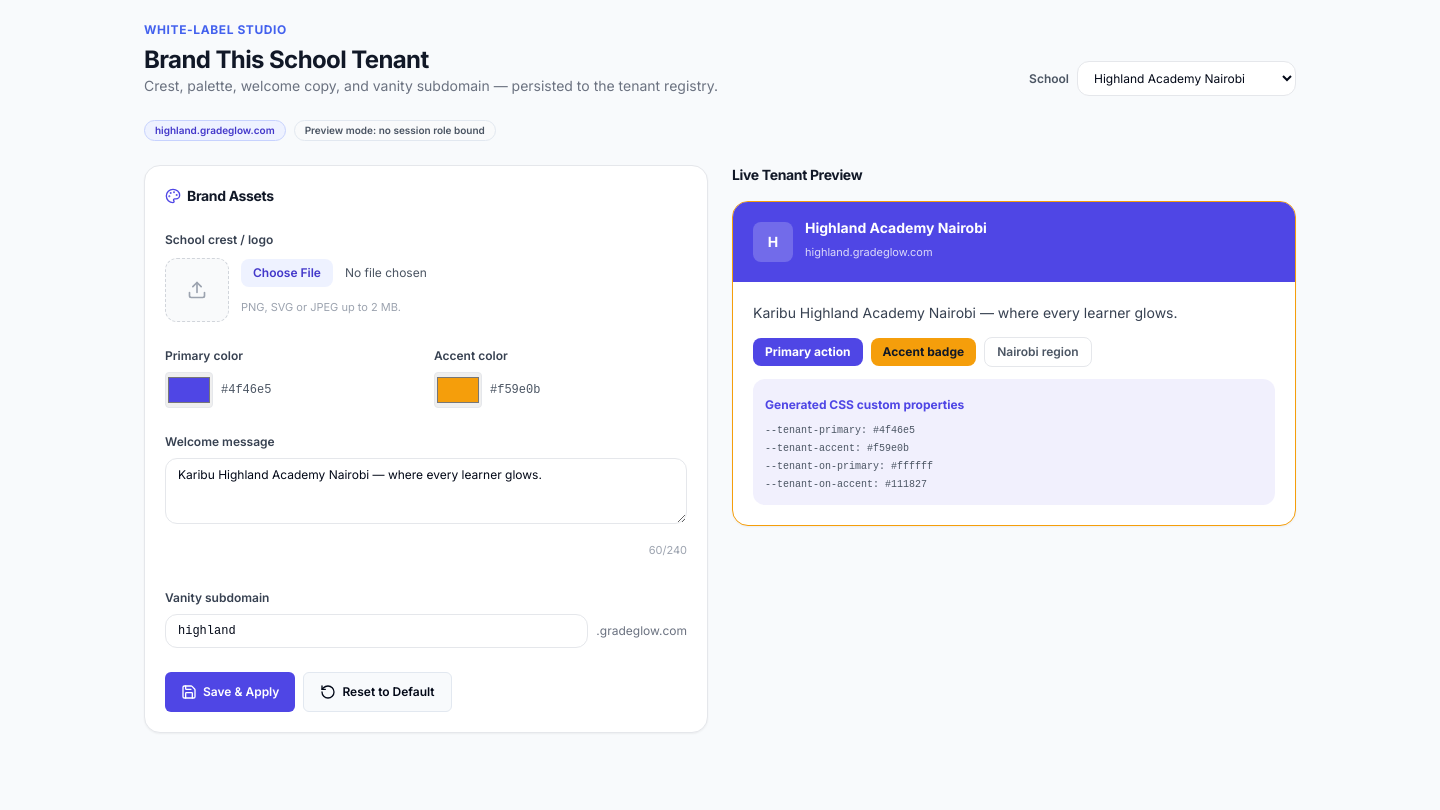
Scenario: WhiteLabelCustomizer › live-applies primary and accent colors to the preview and document root
Type "#123456" into the colour field named "Primary brand color" at (189, 390), box [165,372,213,408]
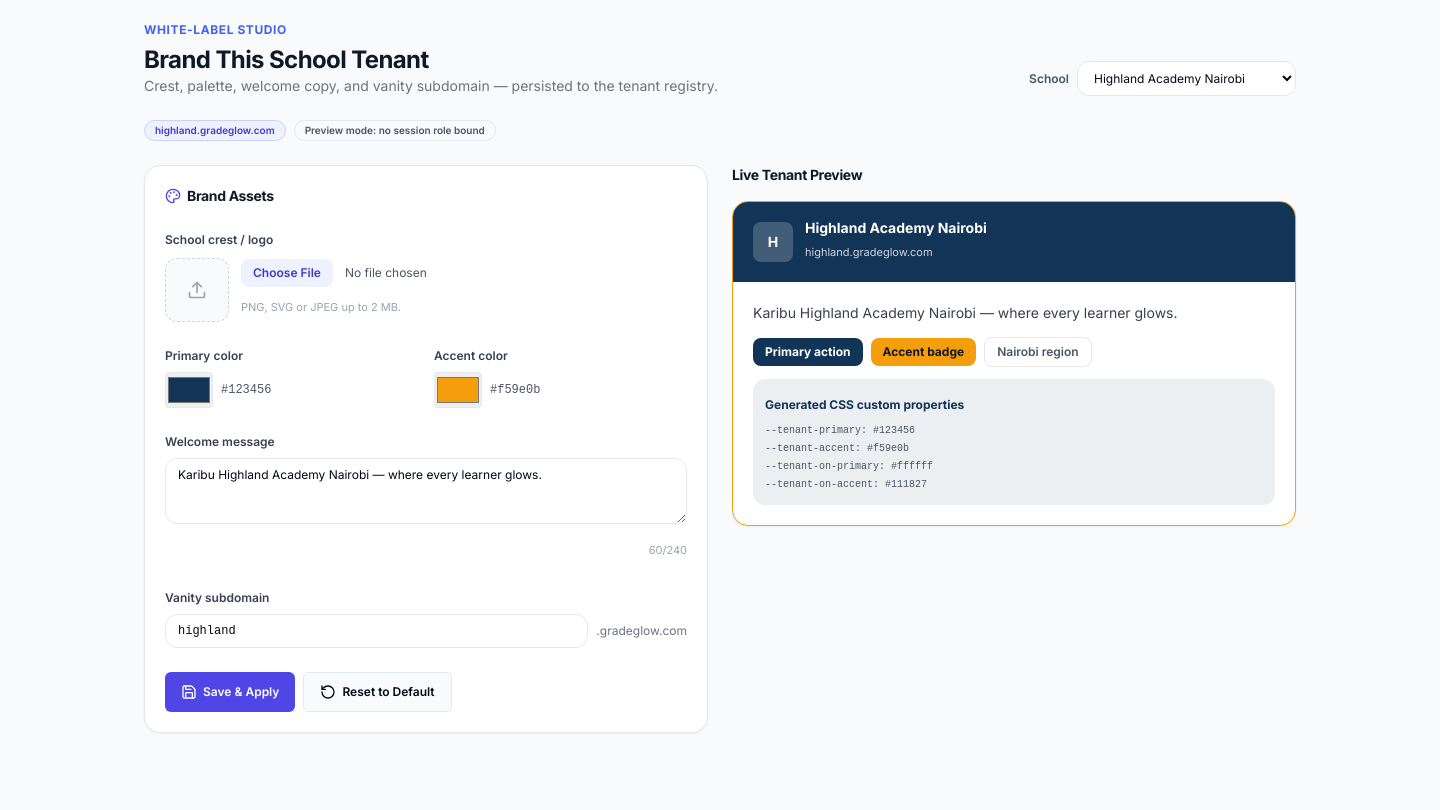
Type "#654321" into the colour field named "Accent brand color" at (458, 390), box [434,372,482,408]
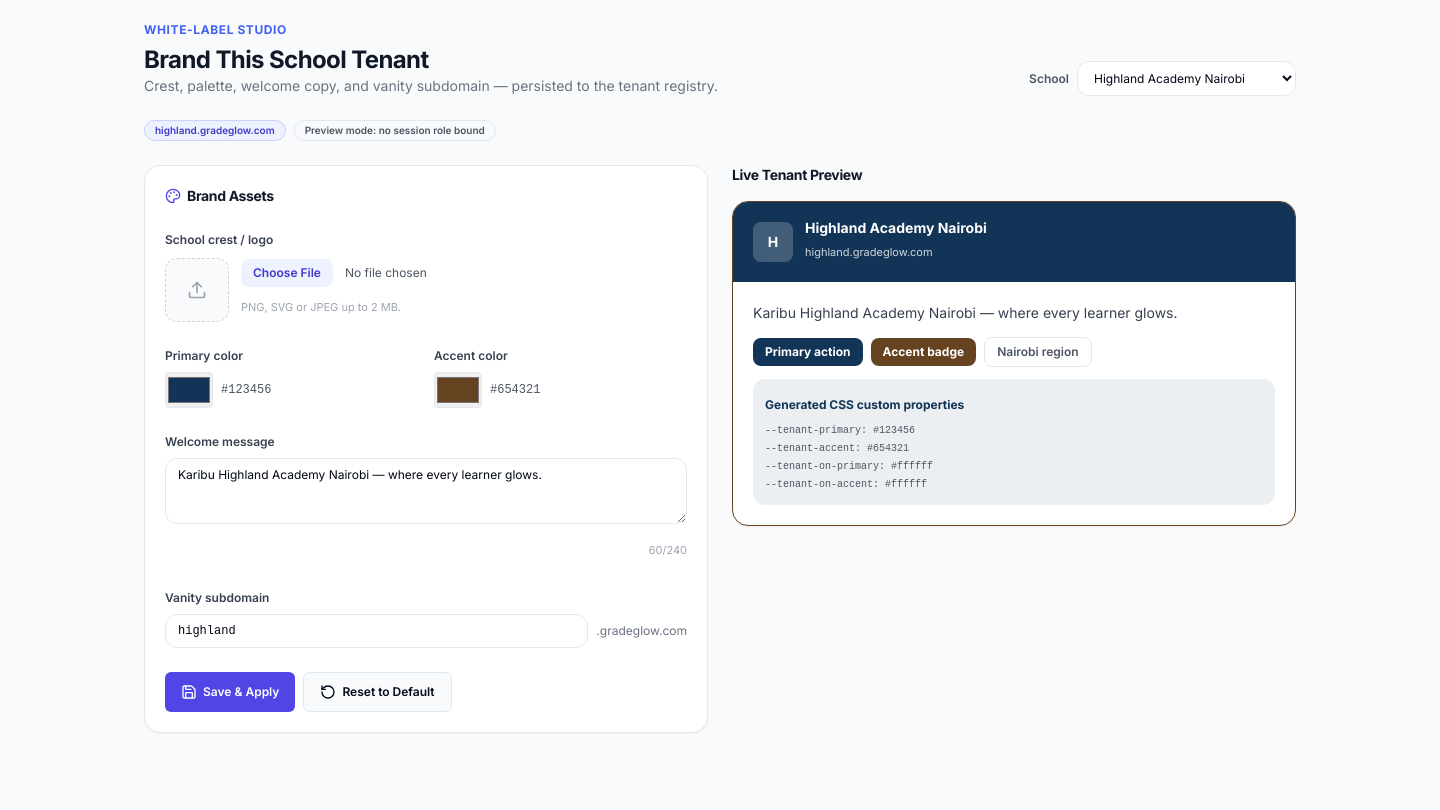
Expected: the text "#123456" is shown, [221,382,271,398]
Expected: the list with test id "css-var-list" shows "--tenant-primary: #123456", [765,425,933,490]
Expected: the list with test id "css-var-list" shows "--tenant-accent: #654321", [765,425,933,490]
